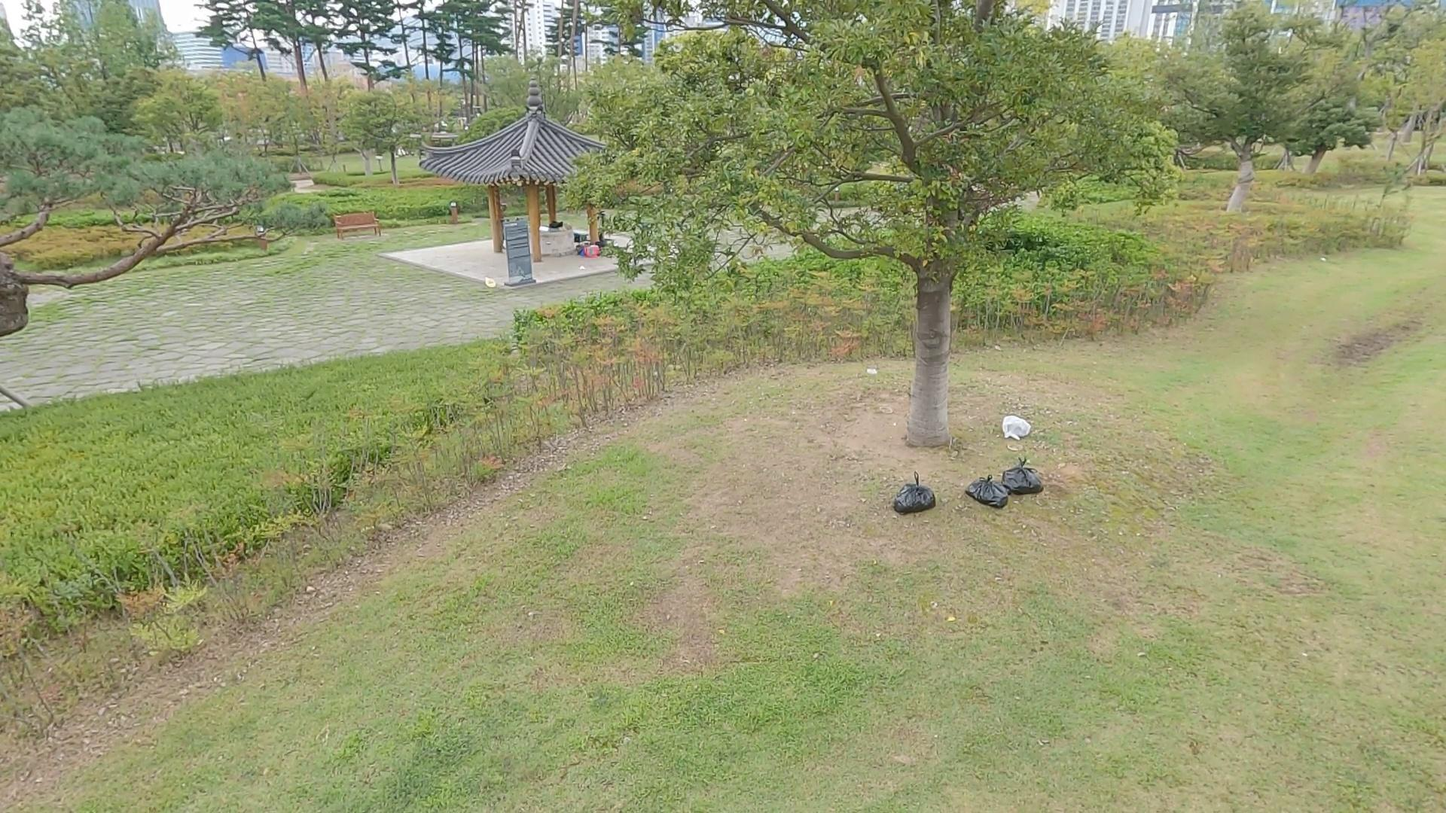trash: (893, 470, 938, 515), (1002, 457, 1043, 495), (965, 474, 1008, 510), (1003, 415, 1031, 440)
